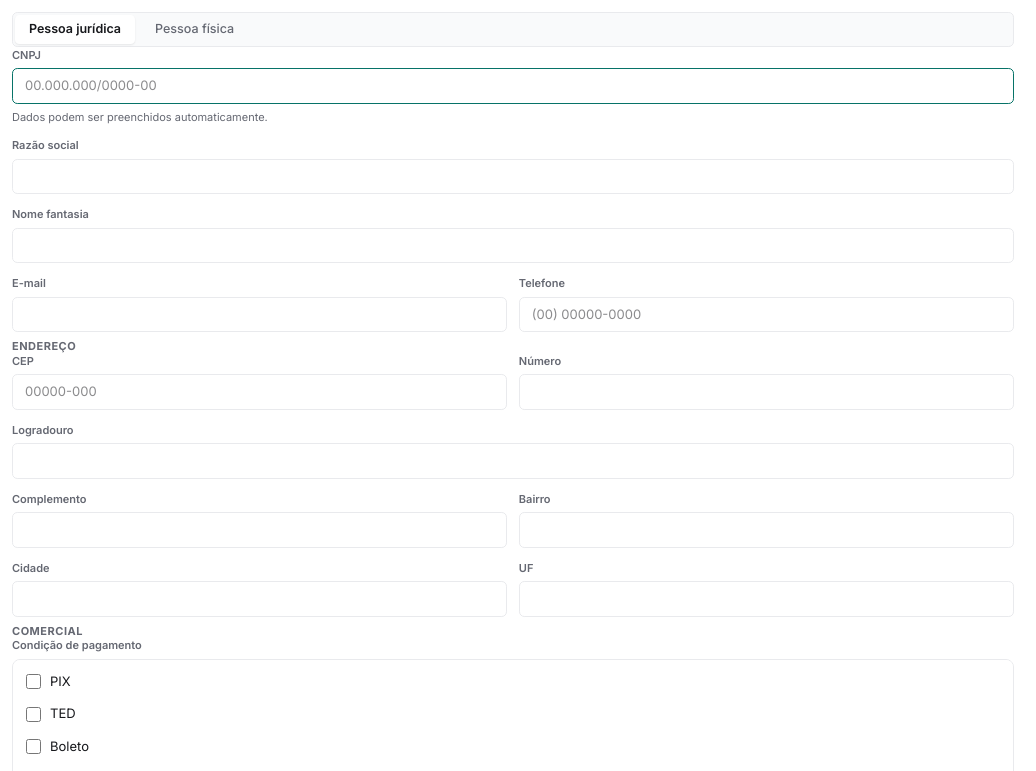
VendorForm › auto-fills name/tradeName/address from a mocked CNPJ lookup
The image size is (1036, 771).
Type "11222333000181" into the field with placeholder "00.000.000/0000-00". click: (513, 86)
box: [12,68,1014,104]
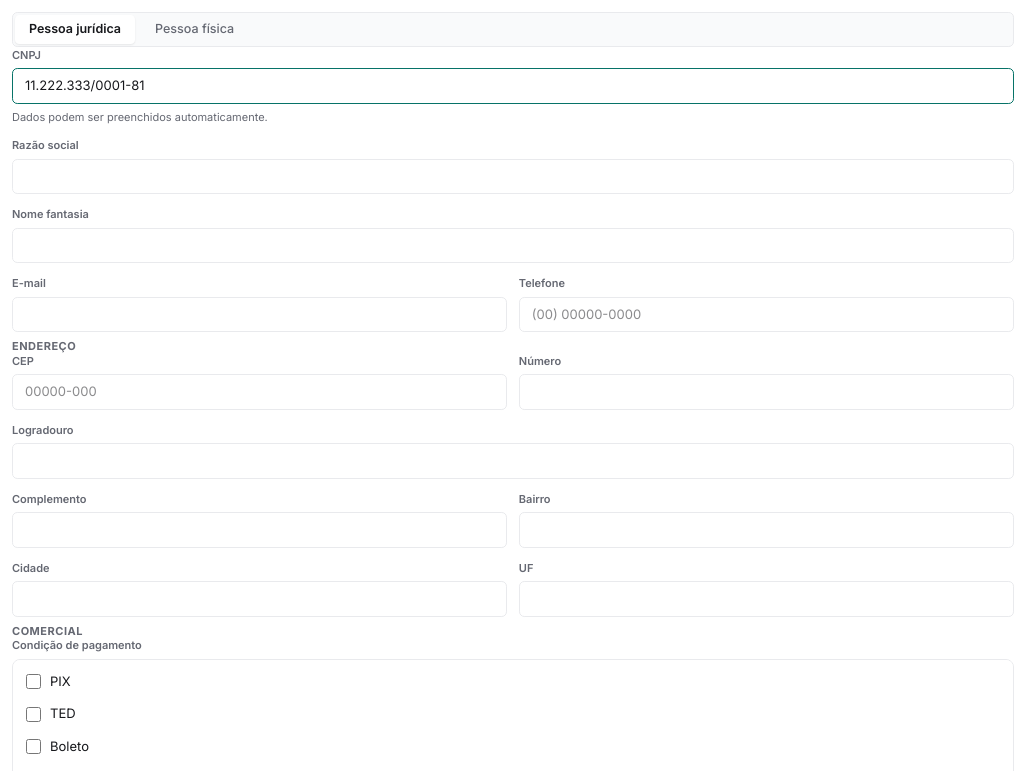
Leave the field with placeholder "00.000.000/0000-00", box [12,68,1014,104]
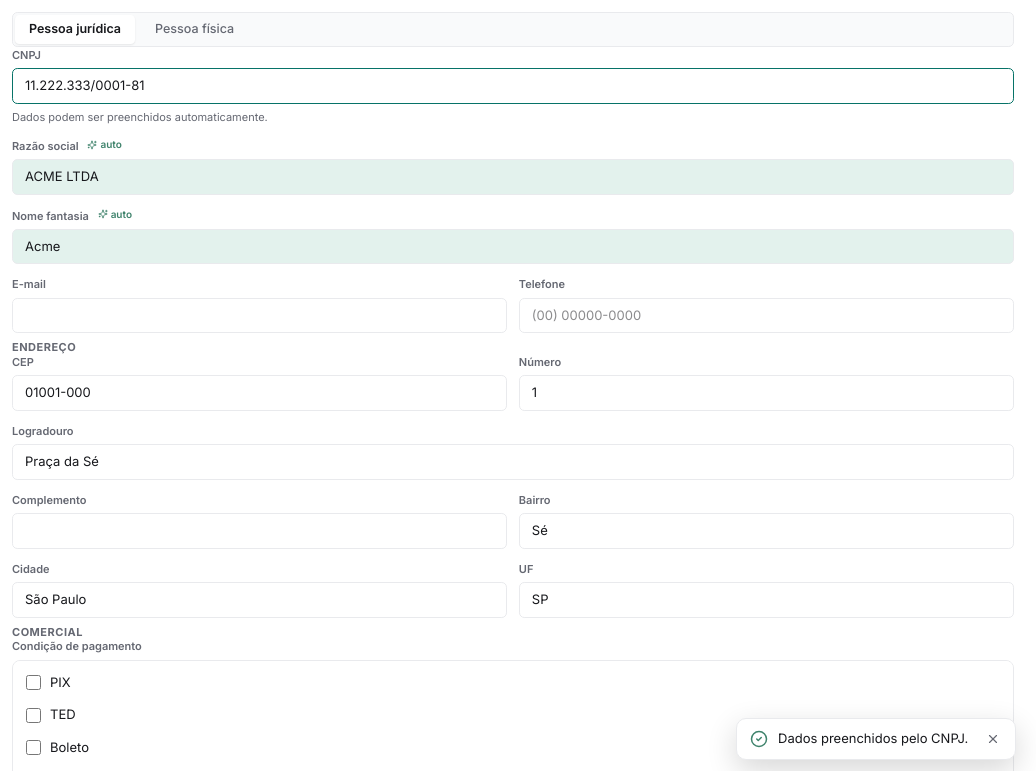
Expected: the field showing "ACME LTDA" is shown, [12,159,1014,195]
Expected: the field showing "Acme" is shown, [12,229,1014,264]
Expected: the field showing "Praça da Sé" is shown, [12,444,1014,480]
